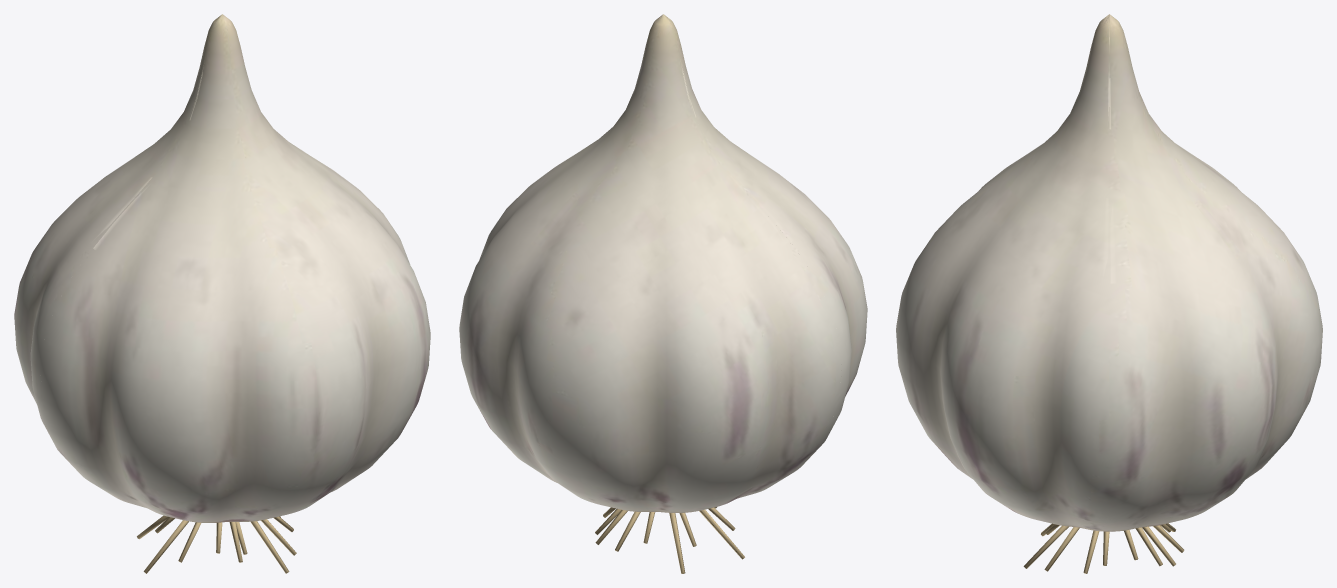
File: ail.glb
3 renders of one model, left to right at view 1: azimuth 30°, elevation 25°; view 2: azimuth 150°, elevation 25°; view 3: azimuth 270°, elevation 25°, orthographic. The views are drawn at different scales.
Visible parts, largest first — view 1: entier_peau, moitie_A_peau, moitie_B_peau, moitie_A_extra0, entier_extra0; view 2: entier_peau, moitie_B_peau, moitie_A_peau, entier_extra0, moitie_B_extra0; view 3: entier_peau, moitie_B_peau, moitie_A_peau, entier_extra0, moitie_A_extra0.
Part boxes in pixels (<box>): entier_peau: <box>14,14,429,522</box>; moitie_A_peau: <box>54,15,430,522</box>; moitie_B_peau: <box>14,15,324,419</box>; moitie_A_extra0: <box>143,516,296,573</box>; entier_extra0: <box>144,517,296,573</box>; entier_peau: <box>460,14,867,512</box>; moitie_B_peau: <box>459,14,828,512</box>; moitie_A_peau: <box>562,15,867,410</box>; entier_extra0: <box>595,507,744,573</box>; moitie_B_extra0: <box>596,507,707,573</box>; entier_peau: <box>896,14,1322,531</box>; moitie_B_peau: <box>1109,14,1321,531</box>; moitie_A_peau: <box>897,14,1109,531</box>; entier_extra0: <box>1025,523,1183,573</box>; moitie_A_extra0: <box>1023,524,1106,573</box>.
Size of the model in its own units: 0.058 by 0.082 by 0.0581.
Materials: 3 (2 with a texture image).
